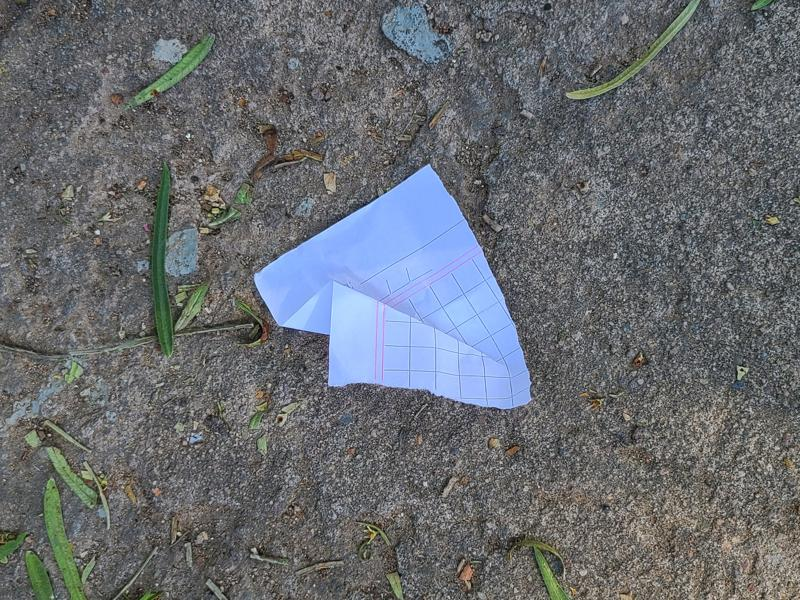papel: (252, 166, 533, 412)
